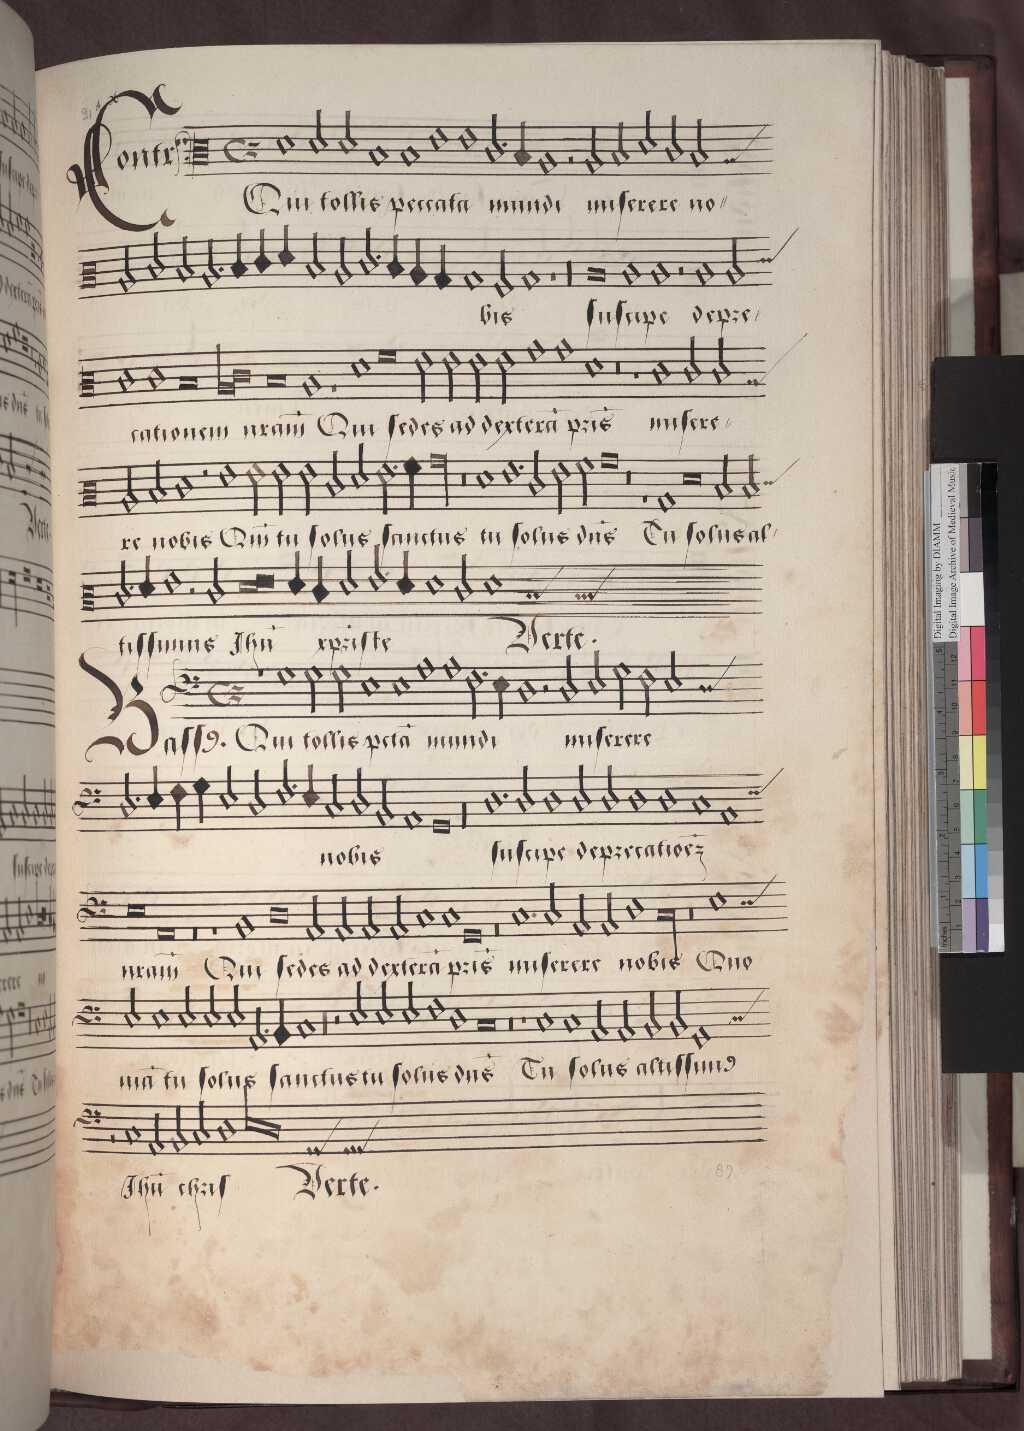breve rest: (453, 444, 472, 512), (619, 448, 638, 509)
breve_3: (595, 441, 619, 466)
breve_6: (677, 462, 706, 495)
c clef_7: (75, 464, 103, 522)
custos_7: (752, 459, 788, 495)
longa_3: (426, 441, 455, 514)
minim rest: (198, 447, 212, 512)
minim_4: (573, 446, 595, 510)
minim_5: (549, 448, 572, 520), (373, 447, 397, 510), (243, 453, 267, 512), (296, 451, 319, 512), (269, 451, 291, 512)
minim_6: (348, 436, 371, 495)
minim_7: (322, 440, 347, 504), (525, 439, 547, 503)
minim_8: (711, 443, 735, 509), (146, 451, 170, 512), (740, 444, 762, 508)
minim_9: (117, 456, 141, 520)
point: (387, 454, 402, 477), (513, 453, 528, 477)
semibreve rest: (635, 454, 652, 509)
semibreve_10: (653, 480, 680, 512)
semibreve_5: (214, 453, 240, 498)
semibreve_6: (472, 457, 496, 500)
semibreve_7: (171, 466, 198, 508)
semiminim_4: (401, 444, 424, 510)
